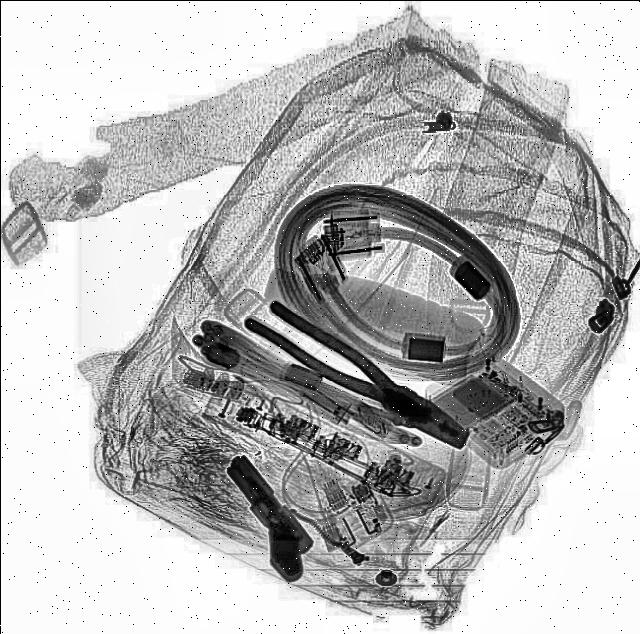Gun: (202, 451, 331, 583)
Pliers: (239, 292, 481, 456)
